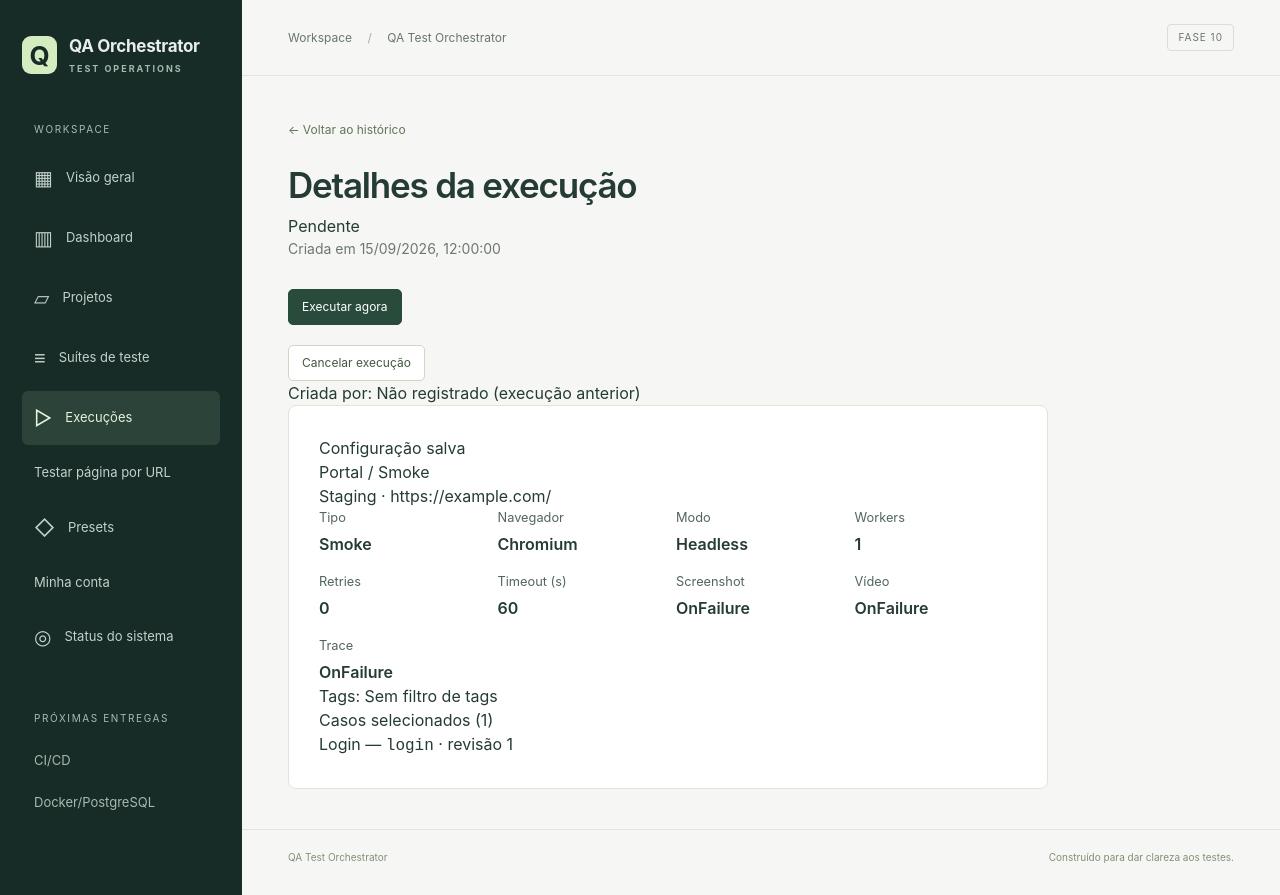
Scenario: exige confirmação para enfileirar e mostra progresso real
Click the button "Executar agora": (345, 307) [288, 289, 402, 325]
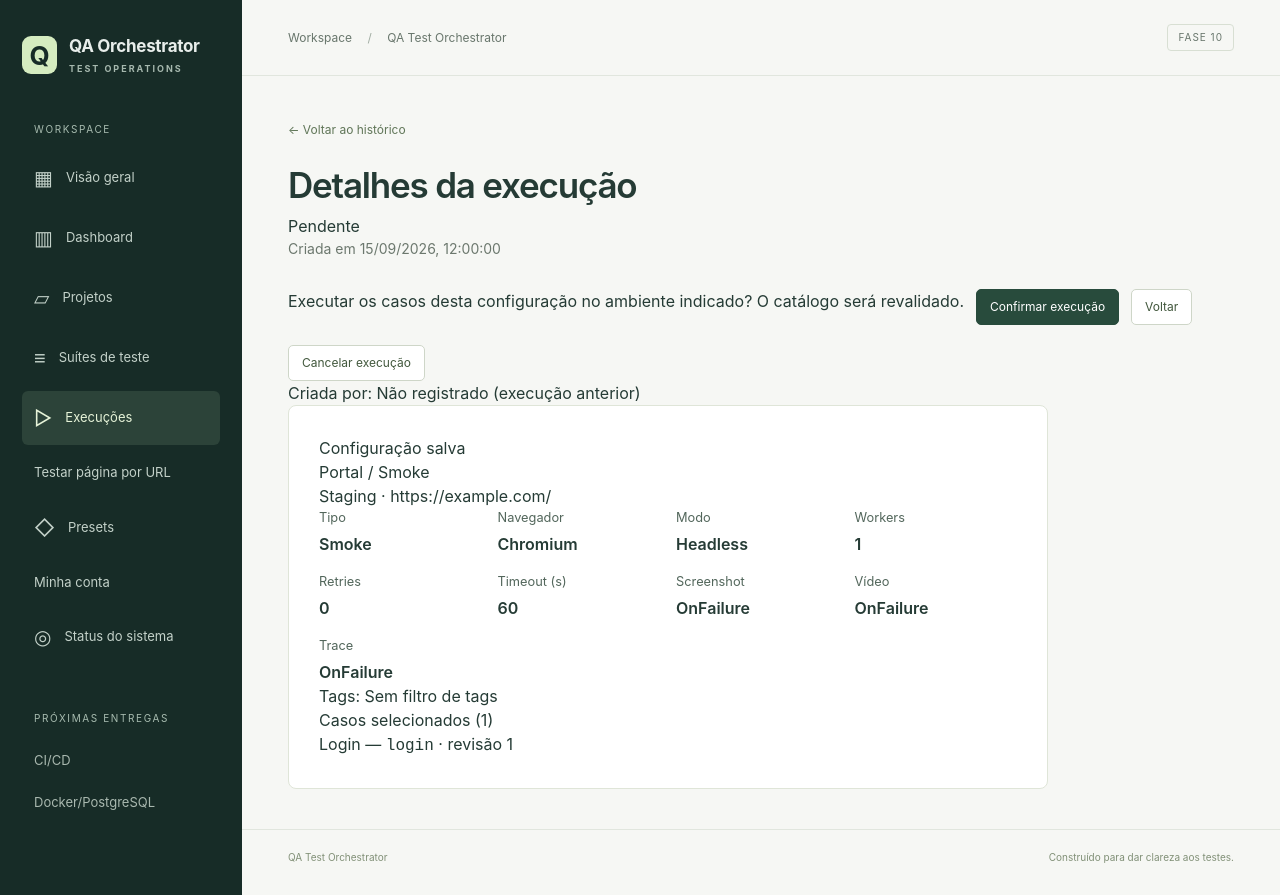
Click the button "Confirmar execução": (1048, 307) [976, 289, 1119, 325]
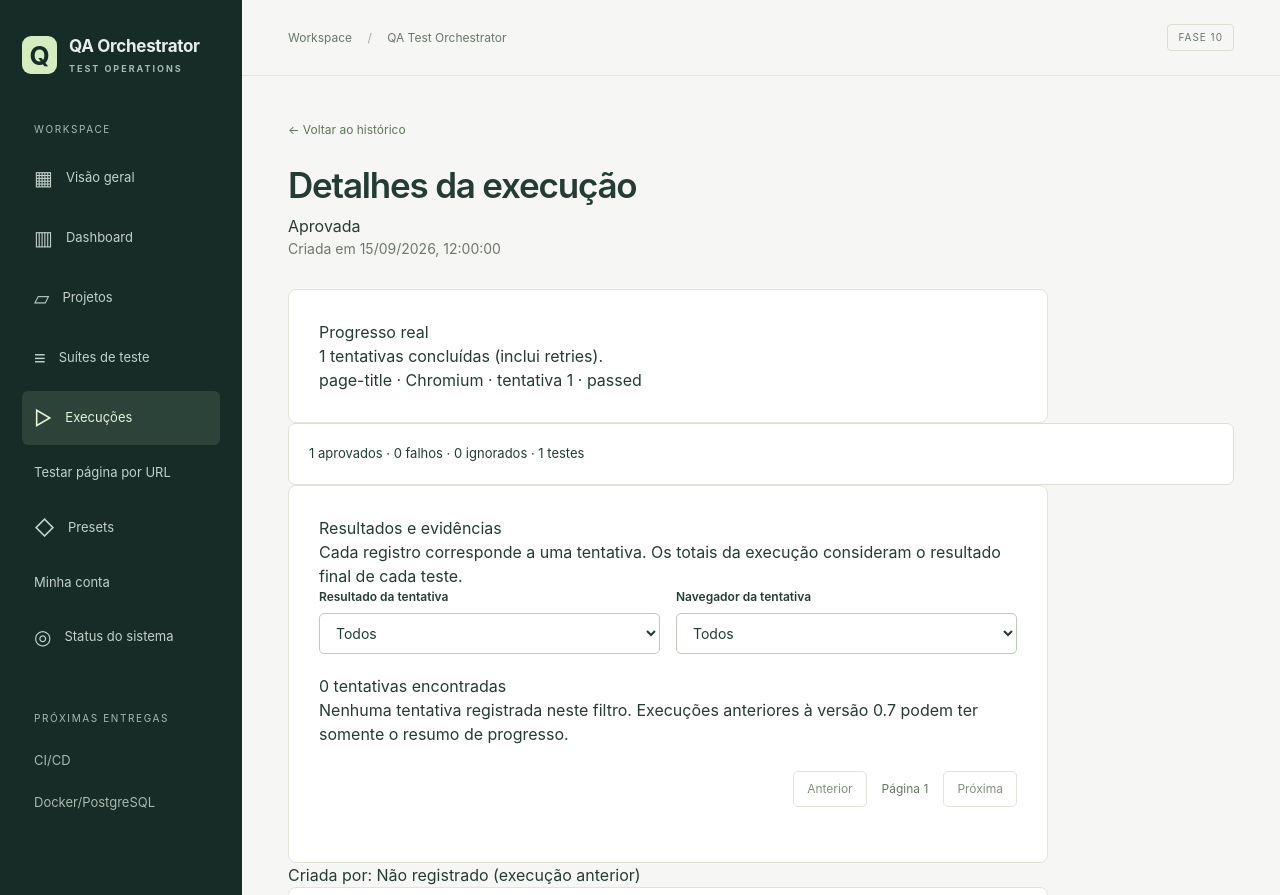
Check: the heading "Progresso real" is shown, box [319, 322, 429, 342]
Check: the text "1 aprovados · 0 falhos · 0 ignorados · 1 testes" is shown, box [288, 423, 1234, 484]
